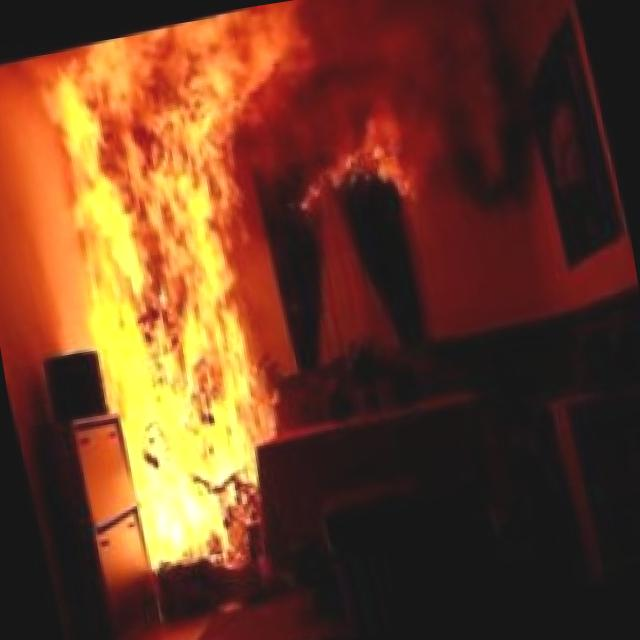fire: (0, 0, 423, 598)
